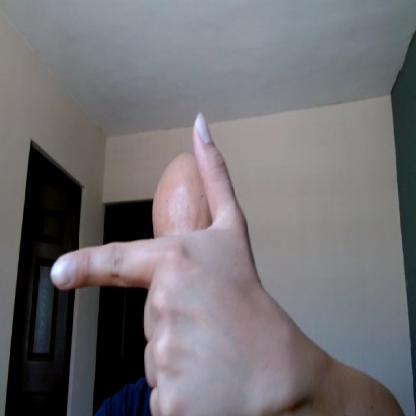G: (50, 110, 278, 416)
